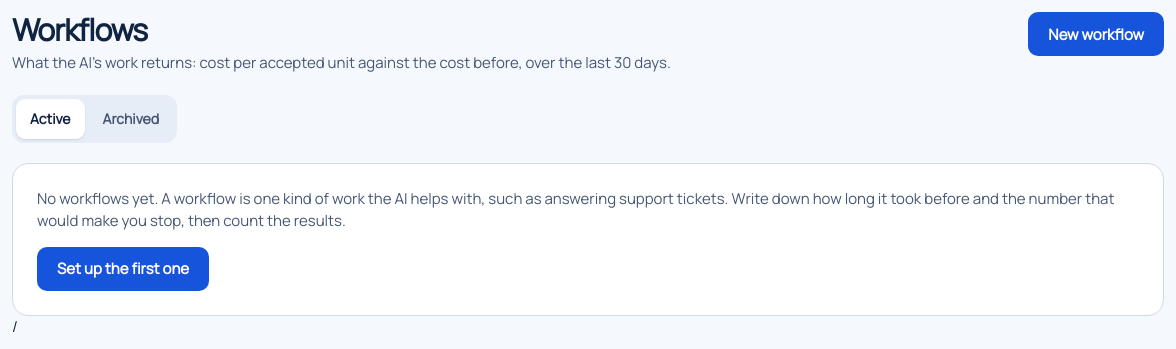
Test: WorkflowsPage › explains workflows when there are none, and switches to archived
This screenshot has width=1176, height=349.
Expected: the text "No workflows yet" is shown, x1=37 y1=188 x2=1114 y2=231
Click the tab "Archived": (131, 118) x1=88 y1=98 x2=173 y2=138
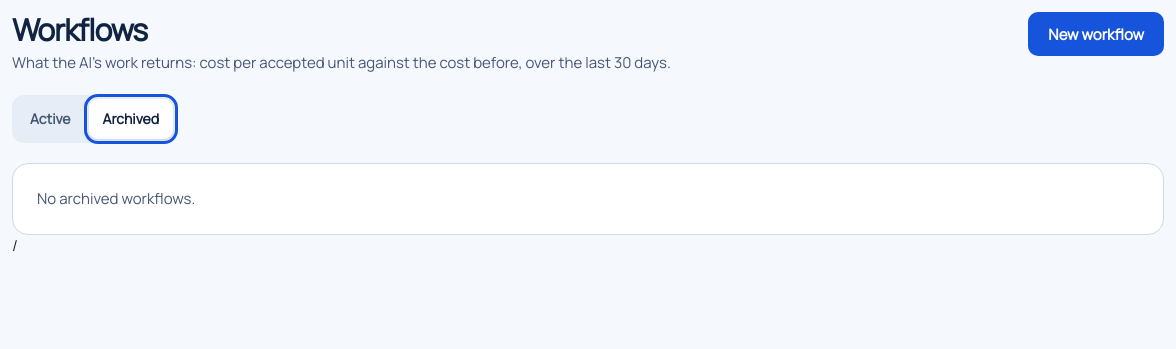
Expected: the text "No archived workflows." is shown, x1=37 y1=188 x2=195 y2=208
